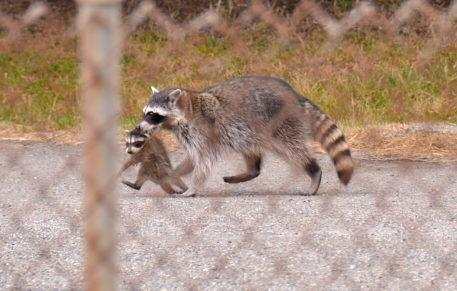raccoon: (135, 74, 370, 203), (112, 127, 196, 209)
